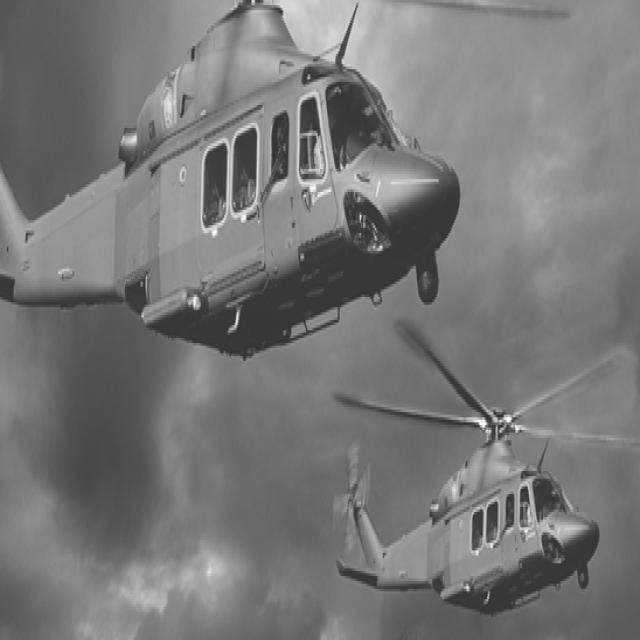helicopter: (1, 1, 578, 362), (326, 306, 610, 626)
